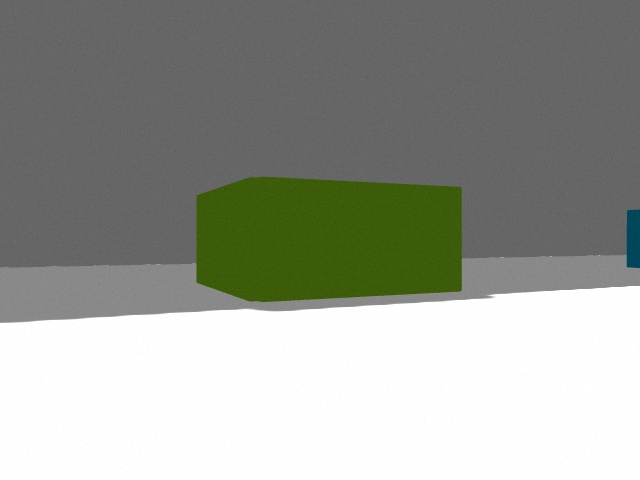blue_drop_zone: (627, 210, 640, 268)
green_drop_zone: (196, 177, 462, 302)
